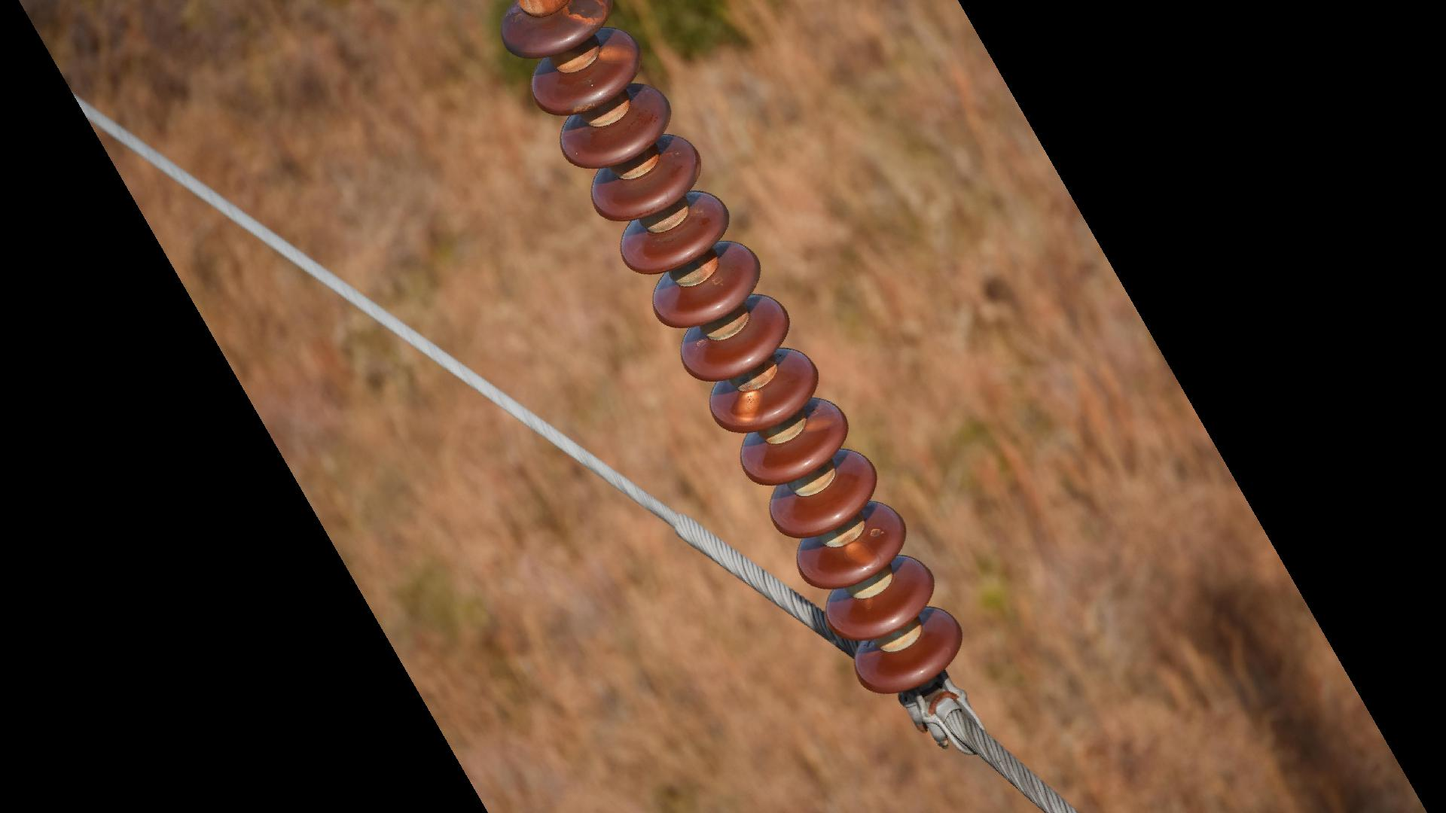insulator: (495, 1, 969, 704)
insulator_flashover: (731, 387, 765, 427), (561, 1, 612, 26), (843, 538, 880, 572), (596, 41, 638, 65)
